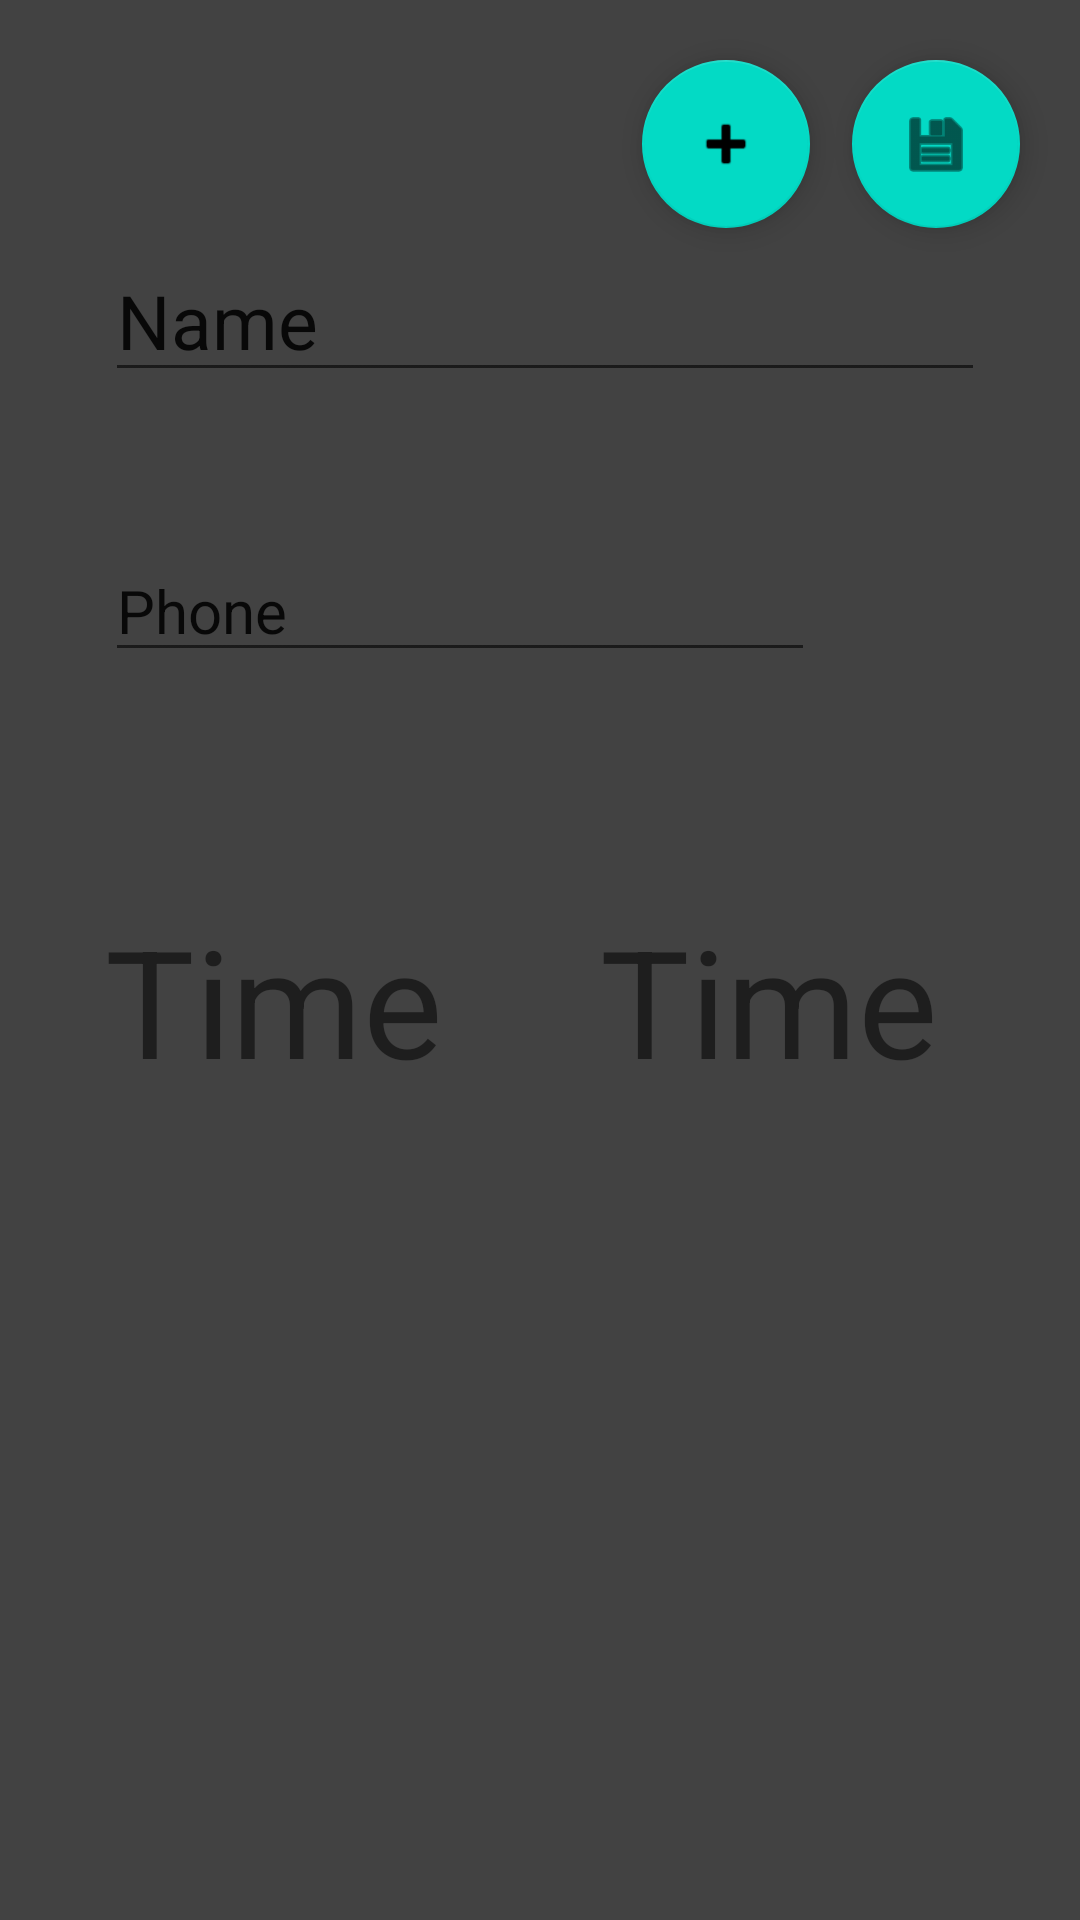

Screen size 1080×1920. Icon name, then its box in pixels as (x1, y1, x2, y2):
add: (642, 60, 810, 228)
save: (852, 60, 1020, 228)
